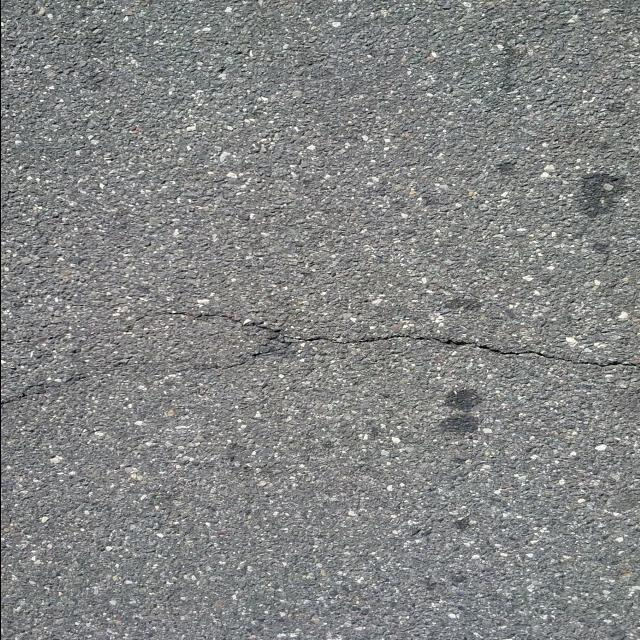Crack: (285, 334, 640, 368), (124, 312, 290, 371), (0, 378, 85, 407)
